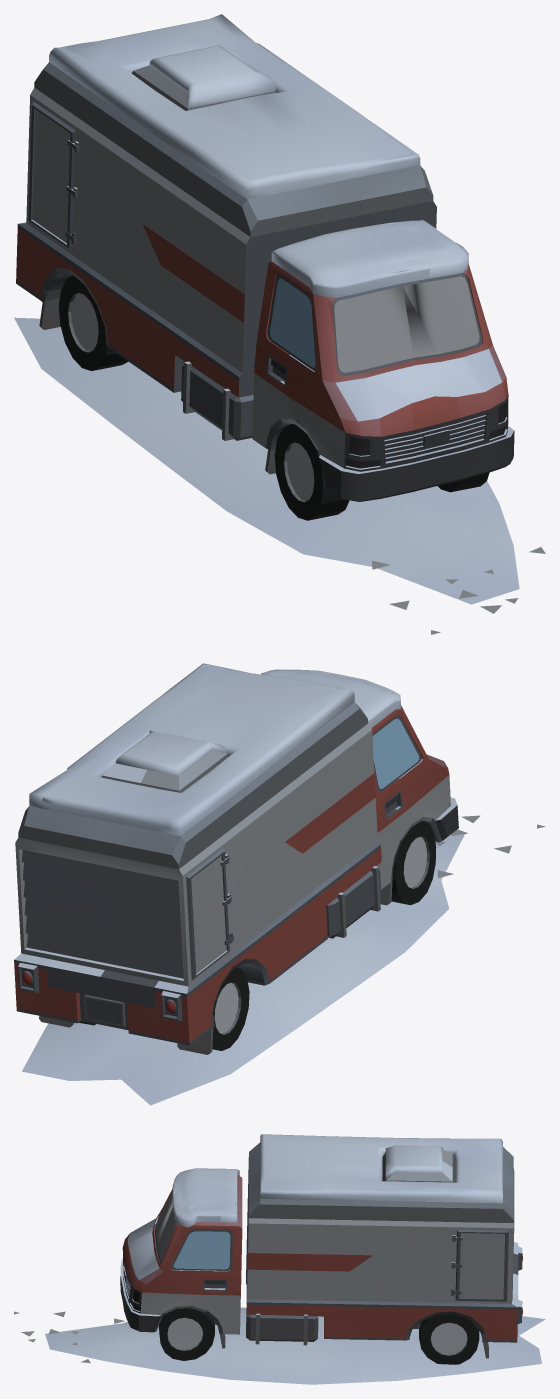
Rendered from box_truck_crashed.glb.
3 renders of one model, top to bottom at view 1: azimuth 30°, elevation 25°; view 2: azimuth 150°, elevation 25°; view 3: azimuth 270°, elevation 25°, orthographic. The views are drawn at different scales.
Parts seen in each view (by area): view 1: Body, Glass; view 2: Body, Glass; view 3: Body, Glass.
Boxes of the visible parts, x1,y1,x2,y2 form: Body: (14, 14, 545, 634); Glass: (270, 278, 315, 367); Body: (14, 663, 545, 1105); Glass: (372, 718, 419, 788); Body: (14, 1134, 545, 1384); Glass: (173, 1231, 230, 1269).
Bounding box in the file's own units: 3.13 × 3.6 × 9.12.
